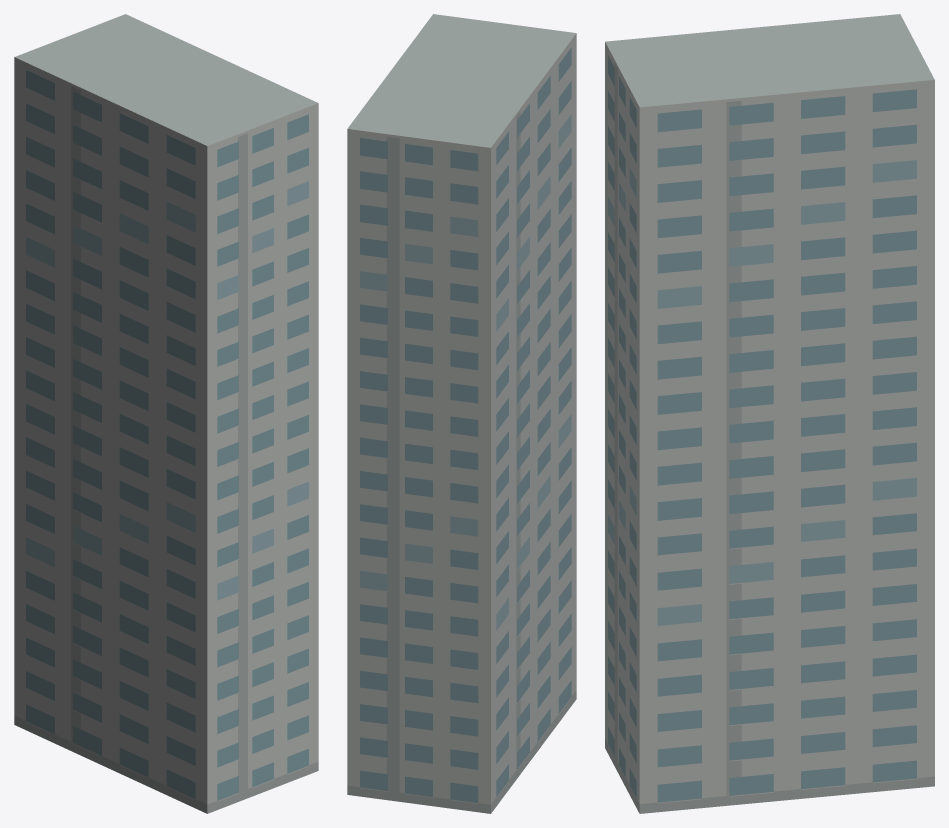
File: residential-1009d66b-07e5-4736-a346-692010b2ccbb.glb
3 renders of one model, left to right at view 1: azimuth 30°, elevation 25°; view 2: azimuth 150°, elevation 25°; view 3: azimuth 270°, elevation 25°, orthographic. The views are drawn at different scales.
Parts seen in each view (by area): view 1: residential-1009d66b-07e5-4736-a346-692010b2ccbb.tmp; view 2: residential-1009d66b-07e5-4736-a346-692010b2ccbb.tmp; view 3: residential-1009d66b-07e5-4736-a346-692010b2ccbb.tmp.
Part boxes in pixels (x1,y1,x2,y2): residential-1009d66b-07e5-4736-a346-692010b2ccbb.tmp: [14, 14, 318, 813]; residential-1009d66b-07e5-4736-a346-692010b2ccbb.tmp: [347, 14, 576, 813]; residential-1009d66b-07e5-4736-a346-692010b2ccbb.tmp: [605, 14, 934, 813].
Bounding box in the file's own units: 17.31 × 61 × 25.82.
